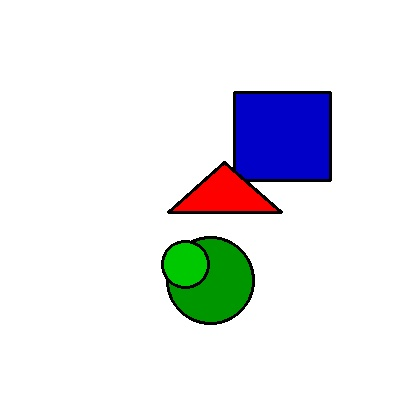circle: (158, 237, 263, 323), (162, 221, 208, 307)
rectangle: (234, 92, 330, 180)
triangle: (168, 162, 281, 212)
